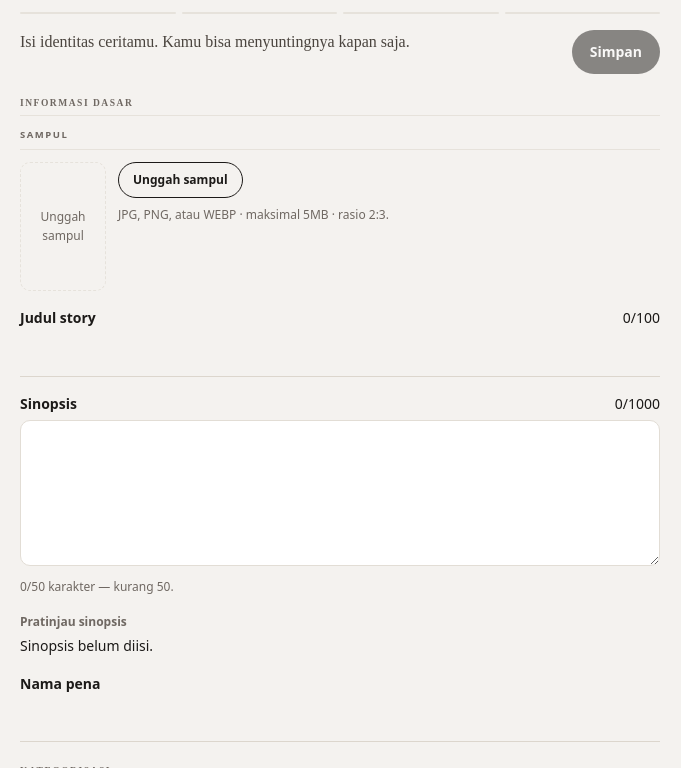
validasi berurutan & inline · FR-STUDIO-16 › lolos judul, lalu menuntut sinopsis 50 karakter, lalu nama pena
The width and height of the screenshot is (681, 768).
In the field labelled "Judul story": coordinates (340, 356) [20,335,660,377], type "Judul Sah"
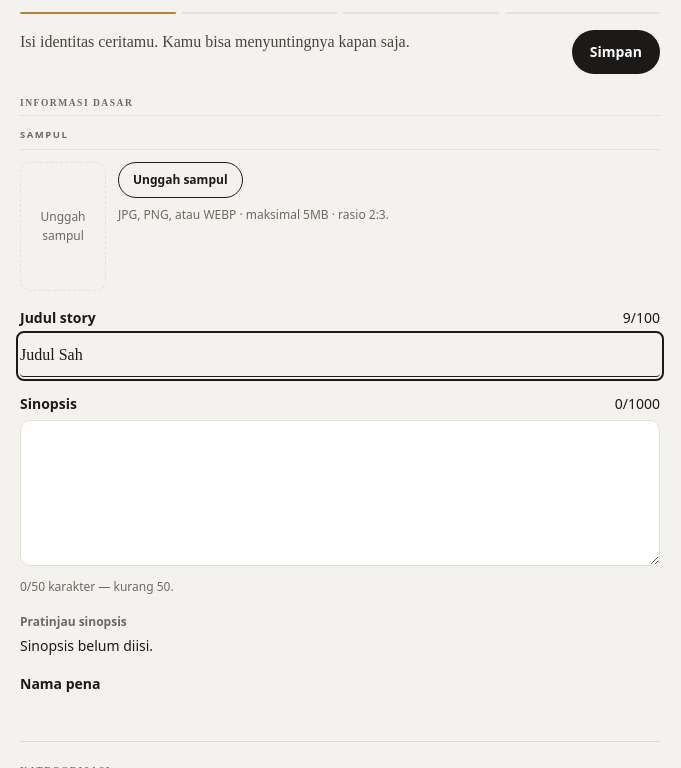
Click the button "Simpan": coordinates (616, 52) [572,30,660,74]
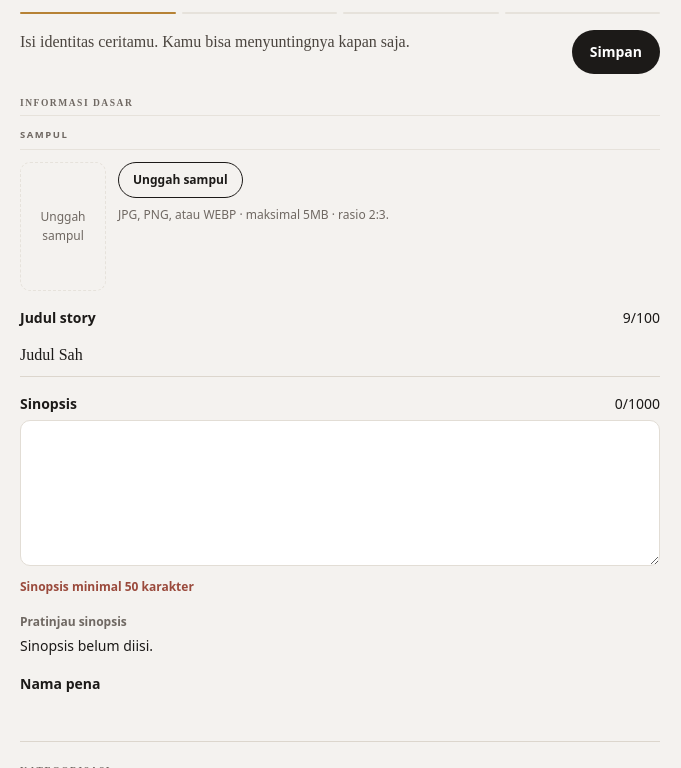
Now the text "Sinopsis minimal 50 karakter" is shown, box [20,578,194,595]
In the text box labelled "Sinopsis": coordinates (340, 493) [20,420,660,566], type "Kalimat pembuka yang cukup panjang untuk lolos ambang lima puluh karakter."
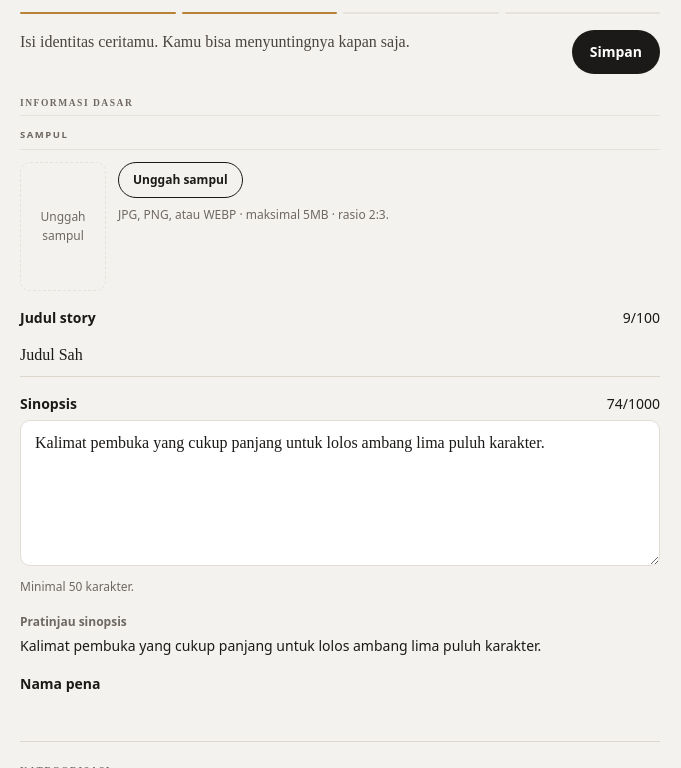
Click the button "Simpan": coordinates (616, 52) [572,30,660,74]
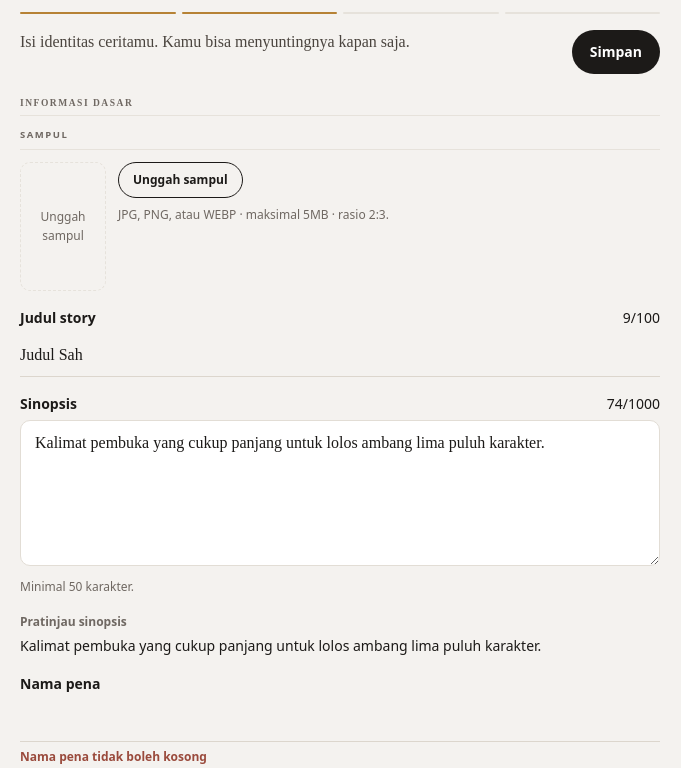
Now the text "Nama pena tidak boleh kosong" is shown, box [20,748,207,765]
